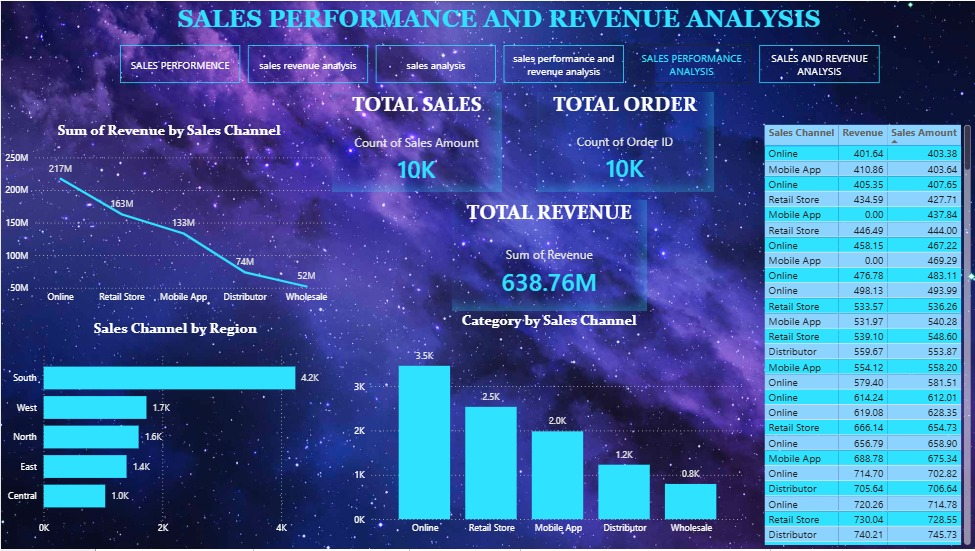

The dashboard page shown, as its layout file describes it:
{"tool":"powerbi","page":{"name":"SALES PERFORMANCE ANALYSIS","canvas":[1280,720],"ordinal":4},"visuals":[{"type":"textbox","box":[228.5,0,858.8,57.8],"z":0,"group":"g1"},{"type":"barChart","title":"Sales Channel by Region","fields":{"Category":["Sales_Data.Region"],"Y":["CountNonNull(Sales_Data.Sales Channel)"]},"box":[0,418.4,458.3,293.2],"z":0},{"type":"pageNavigator","box":[156.9,57.8,1000,50],"z":1000,"group":"g1"},{"type":"lineChart","fields":{"Category":["Sales_Data.Sales Channel"],"Y":["Sum(Sales_Data.Revenue)"]},"box":[0,158.3,441.8,249.1],"z":1000},{"type":"lineClusteredColumnComboChart","title":"Category by Sales Channel","fields":{"Category":["Sales_Data.Sales Channel"],"Y":["CountNonNull(Sales_Data.Category)"]},"box":[458.3,407.4,523.7,303.5],"z":4000},{"type":"tableEx","fields":{"Values":["Sales_Data.Sales Channel","Sales_Data.Revenue","Sales_Data.Sales Amount"]},"box":[997.8,158.3,282.2,561.5],"z":4001},{"type":"group","id":"g1","title":"Header","box":[156.9,0,1000,107.8],"z":4002},{"type":"cardVisual","title":"TOTAL SALES","fields":{"Data":["CountNonNull(Sales_Data.Sales Amount)"]},"box":[434.8,120.1,223,132.1],"z":4003},{"type":"cardVisual","title":"TOTAL REVENUE","fields":{"Data":["Sum(Sales_Data.Revenue)"]},"box":[592.1,261.7,256,145.9],"z":4004},{"type":"cardVisual","title":"TOTAL ORDER","fields":{"Data":["CountNonNull(Sales_Data.Order ID)"]},"box":[703.6,120.1,231.7,131.6],"z":4005}]}

Visuals, with their boxes in screenshot pixels (x1, y1, x2, y2), scaled from the page's 1280x720 canvas onto the 975x551 screenshot:
textbox: x1=174 y1=0 x2=828 y2=44
"Sales Channel by Region" barChart: x1=0 y1=320 x2=349 y2=545
pageNavigator: x1=120 y1=44 x2=881 y2=82
lineChart - Sales_Data.Sales Channel x Sum(Sales_Data.Revenue): x1=0 y1=121 x2=337 y2=312
"Category by Sales Channel" lineClusteredColumnComboChart: x1=349 y1=312 x2=748 y2=544
tableEx - Sales_Data.Sales Channel x Sales_Data.Revenue: x1=760 y1=121 x2=974 y2=550
"Header" group: x1=120 y1=0 x2=881 y2=82
"TOTAL SALES" cardVisual: x1=331 y1=92 x2=501 y2=193
"TOTAL REVENUE" cardVisual: x1=451 y1=200 x2=646 y2=312
"TOTAL ORDER" cardVisual: x1=536 y1=92 x2=712 y2=193
